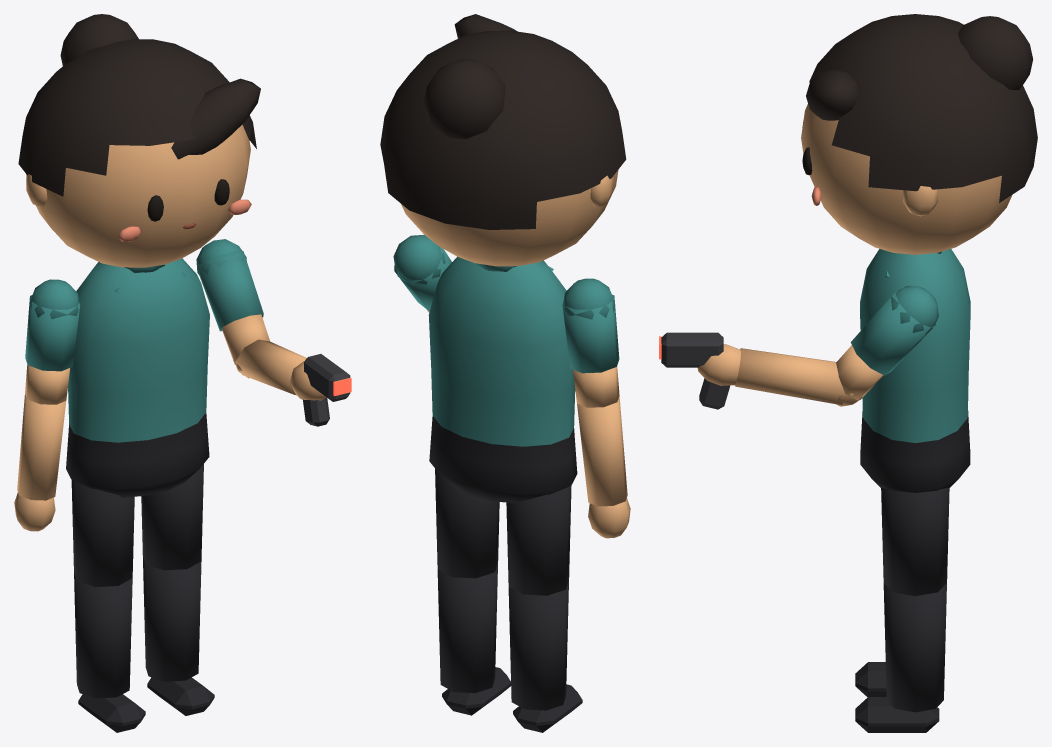
The model's file is era3_cashier.glb.
3 renders of one model, left to right at view 1: azimuth 30°, elevation 25°; view 2: azimuth 150°, elevation 25°; view 3: azimuth 270°, elevation 25°, orthographic. The views are drawn at different scales.
Visible parts, largest first — view 1: head, body, shin_R, shin_L, leg_R, arm_R, arm_L, forearm_R, leg_L, forearm_L, prop_scanner; view 2: head, body, shin_R, shin_L, leg_R, arm_R, forearm_R, leg_L, arm_L; view 3: head, body, shin_L, leg_L, arm_L, forearm_L, prop_scanner, shin_R.
Part boxes in pixels (box(x1,y1,x2,y2)): head: box(18, 14, 260, 267); body: box(66, 258, 209, 497); shin_R: box(74, 572, 145, 732); shin_L: box(143, 556, 214, 715); leg_R: box(71, 480, 134, 587); arm_R: box(25, 279, 80, 404); arm_L: box(196, 239, 269, 378); forearm_R: box(14, 394, 66, 531); leg_L: box(141, 464, 203, 570); forearm_L: box(233, 339, 326, 400); prop_scanner: box(303, 354, 351, 426); head: box(380, 14, 626, 266); body: box(428, 256, 577, 503); shin_R: box(508, 580, 582, 732); shin_L: box(437, 563, 510, 715); leg_R: box(506, 485, 571, 595); arm_R: box(562, 278, 619, 407); forearm_R: box(577, 396, 630, 538); leg_L: box(435, 469, 499, 578); arm_L: box(393, 234, 451, 312); head: box(801, 14, 1037, 254); body: box(860, 249, 970, 492); shin_L: box(855, 583, 946, 732); leg_L: box(881, 487, 949, 596); arm_L: box(836, 286, 938, 406); forearm_L: box(697, 344, 862, 405); prop_scanner: box(659, 332, 730, 409); shin_R: box(855, 662, 886, 697).
Size of the model in its own units: 0.5275 by 1.47 by 0.7304.
